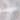plane: (1, 1, 19, 20)
